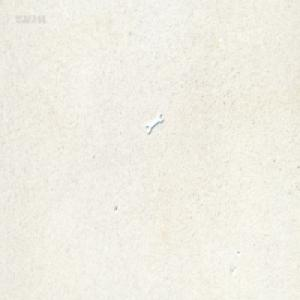Wrench: (145, 111, 163, 133)
